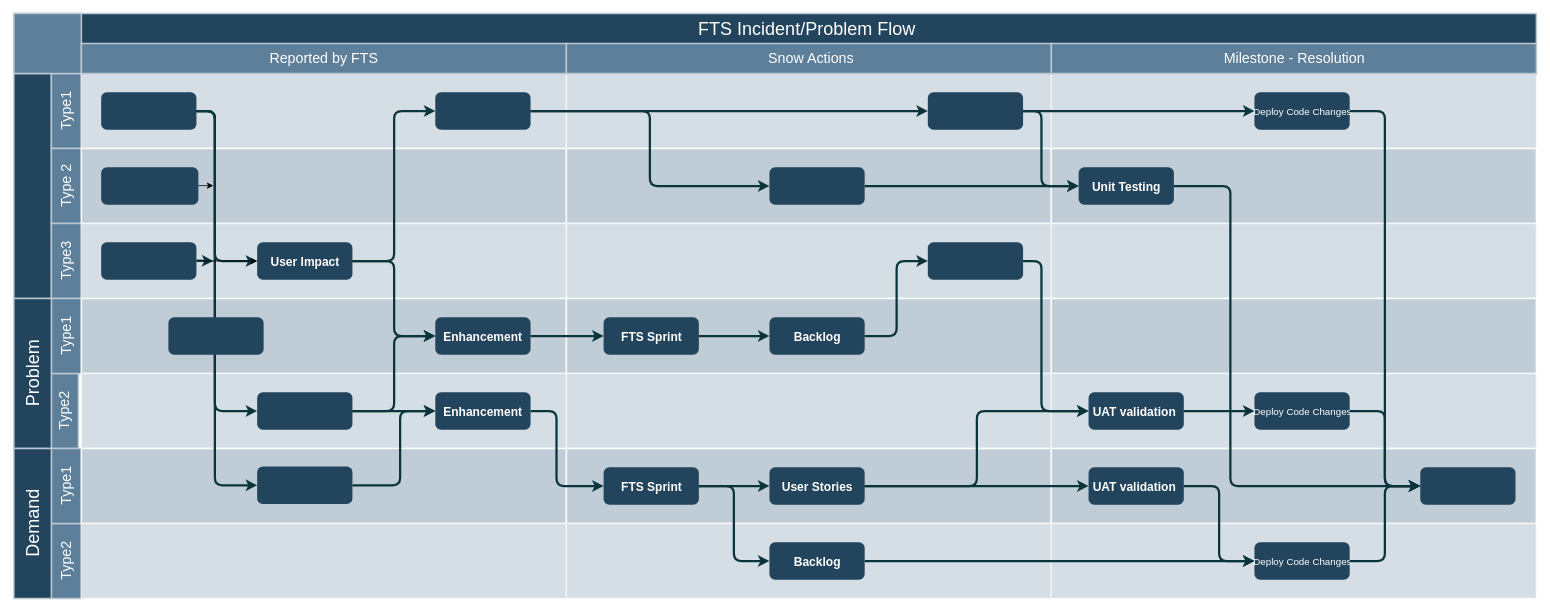
This 1550x612 diagram has some shape labels left out. The centre of each missing label's shape, as x and y in pixels:
"DPO Discussion" goes at point 215,335.
"Error Reporting" goes at point 148,110.
"Frequent/Recurring" goes at point 148,260.
"FTS identified" goes at point 149,185.
"Hotfix" goes at point 975,110.
"Incident" goes at point 32,185.
"New Feature" goes at point 304,485.
"No User Impact" goes at point 304,410.
"Priority bucketing" goes at point 975,260.
"Resolved/Closed" goes at point 1467,485.
"SLA Bound Incident" goes at point 482,110.
"v 1.0" goes at point 47,43.
"Workaround" goes at point 816,185.
